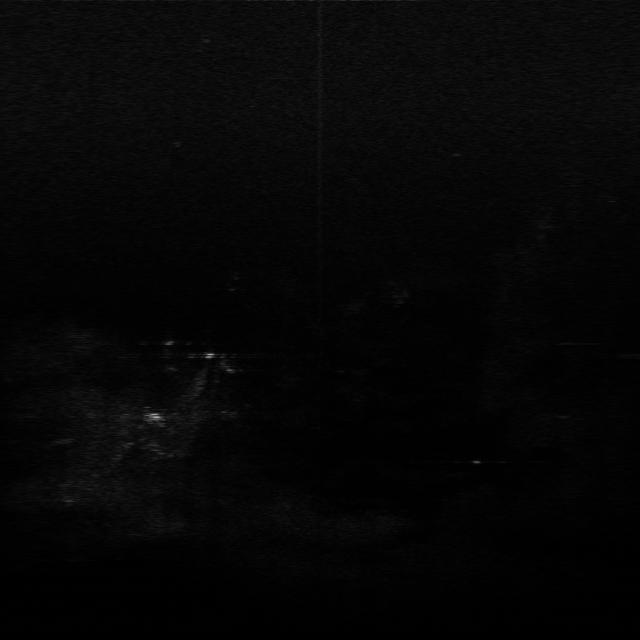rov: (140, 406, 166, 427)
